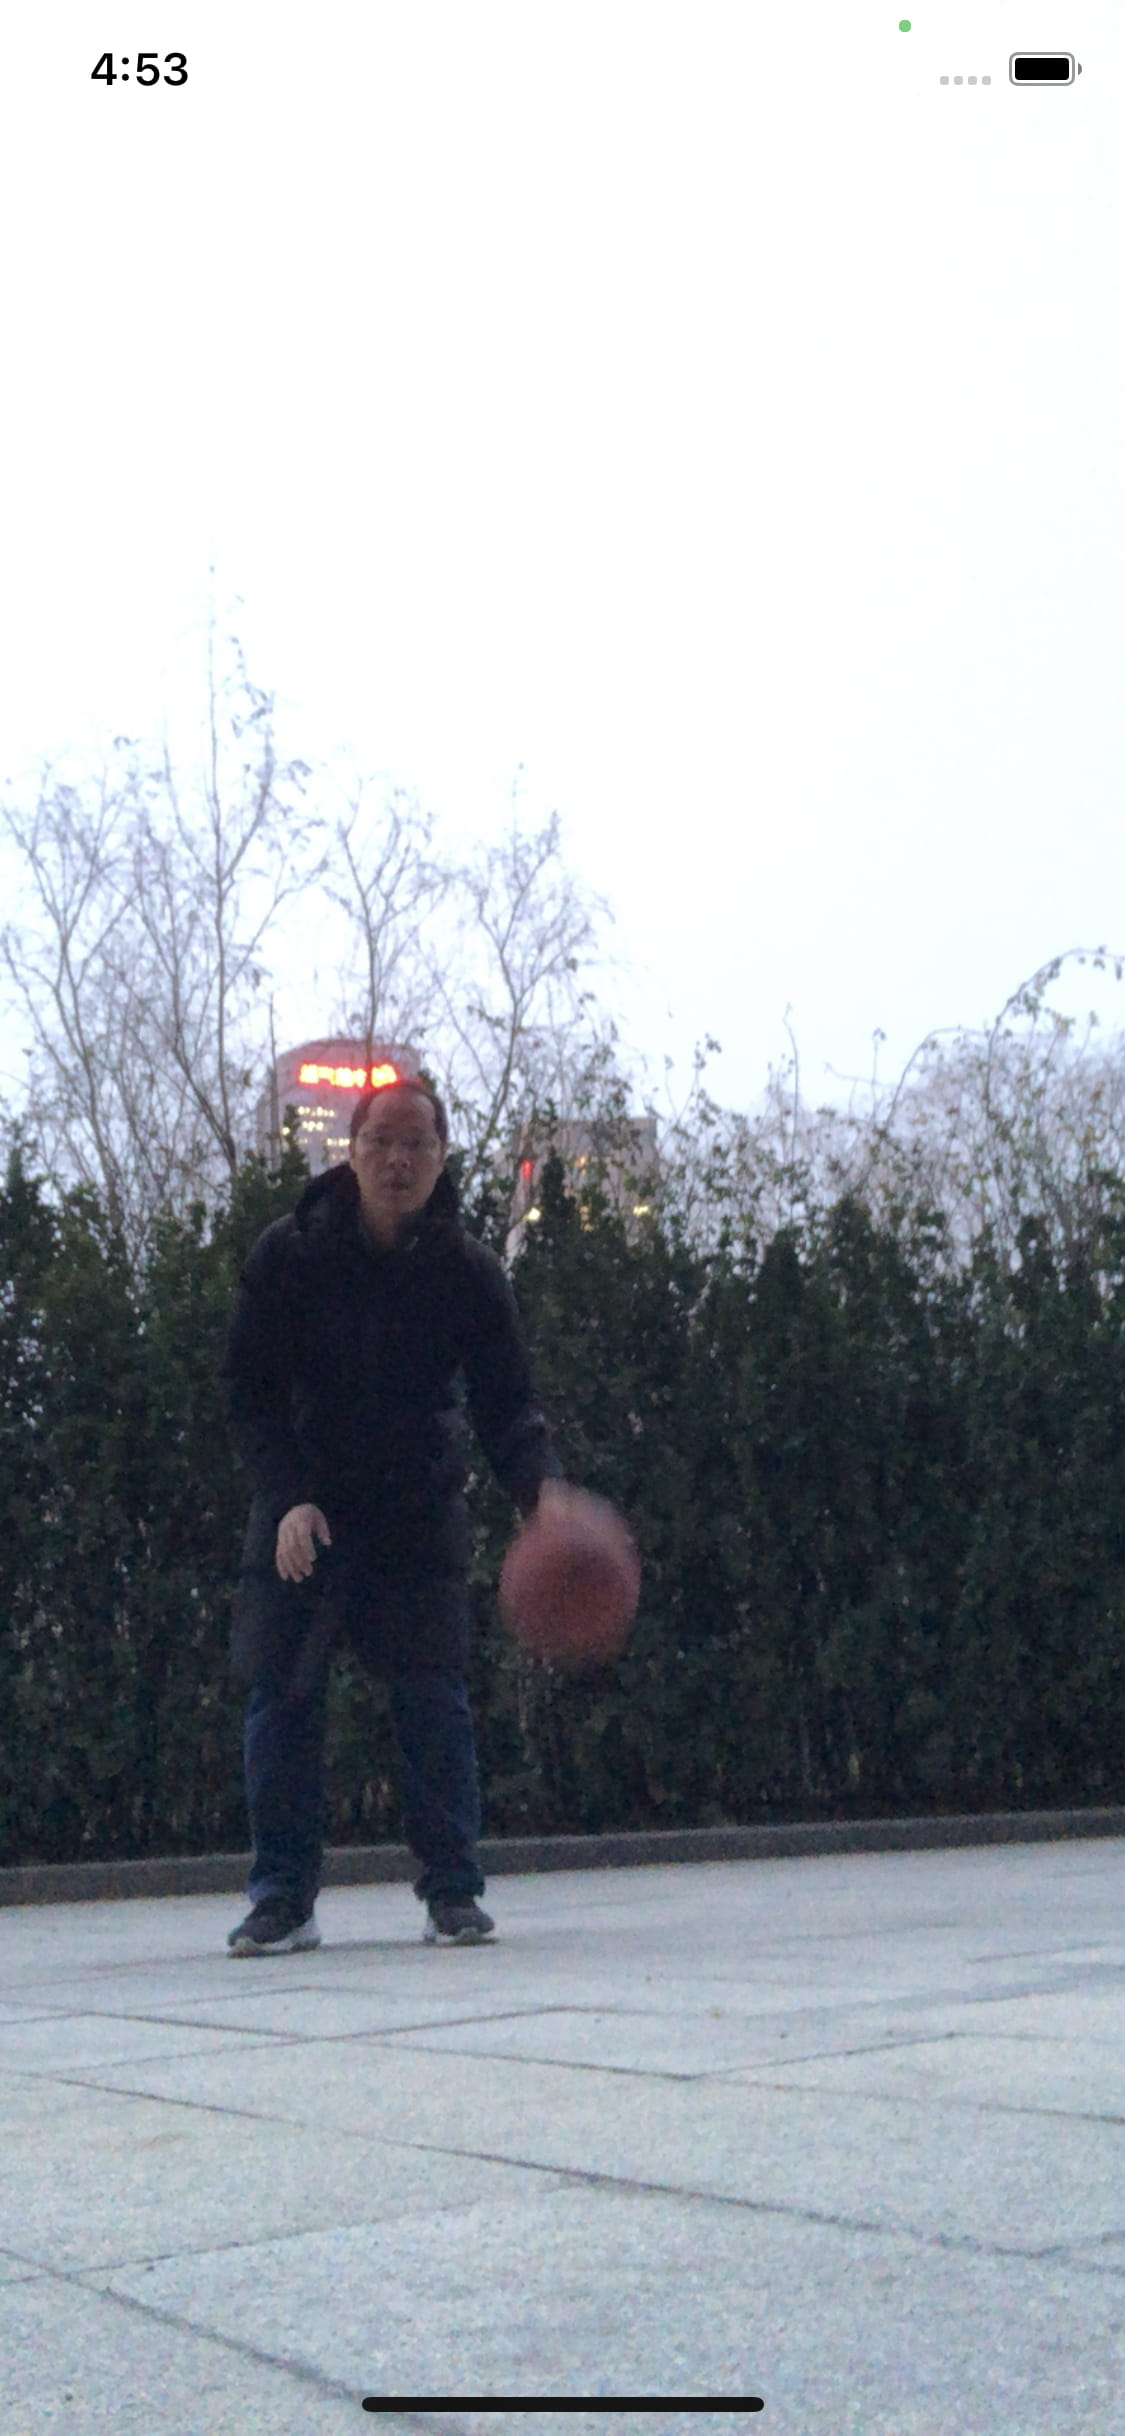ball: (507, 1509, 646, 1670)
